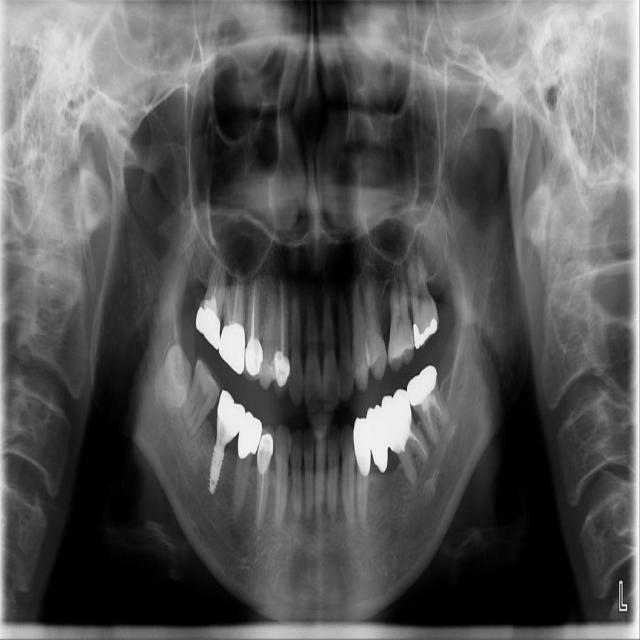52: (344, 387, 423, 478), (203, 389, 254, 439), (404, 298, 447, 353), (398, 362, 447, 409), (193, 298, 224, 350), (218, 321, 246, 375), (237, 411, 263, 464), (268, 350, 293, 398), (255, 425, 277, 476), (242, 336, 264, 381)
73: (382, 416, 443, 491), (200, 216, 234, 325), (406, 380, 463, 445), (217, 256, 247, 333), (246, 278, 265, 344), (274, 278, 289, 361), (256, 460, 269, 533), (620, 612, 632, 620)
BioHorizons Implant: (407, 255, 441, 351)
Blue Sky Bio Implant: (399, 362, 455, 447)
Caries: (191, 218, 235, 350)
Implant: (177, 356, 228, 440)
Keystone Dental Implant: (152, 340, 197, 417)
